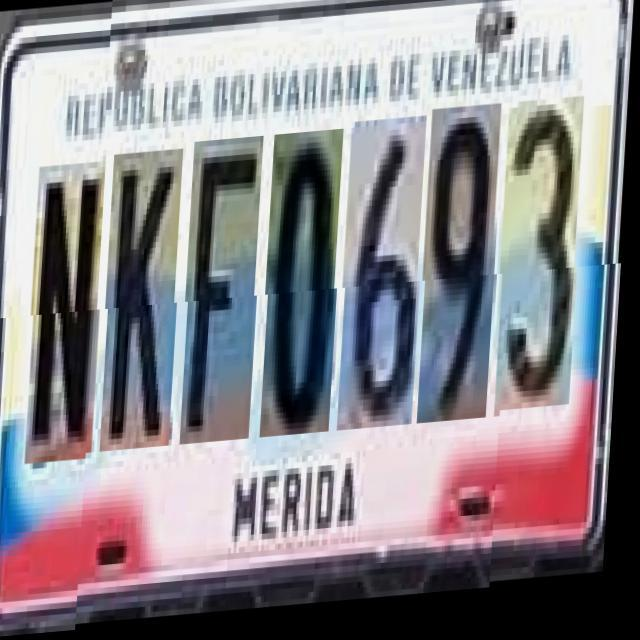3: (499, 112, 588, 426)
6: (342, 124, 432, 438)
9: (422, 112, 507, 432)
F: (185, 140, 268, 448)
K: (105, 152, 188, 454)
N: (31, 158, 111, 460)
O: (266, 135, 348, 443)
